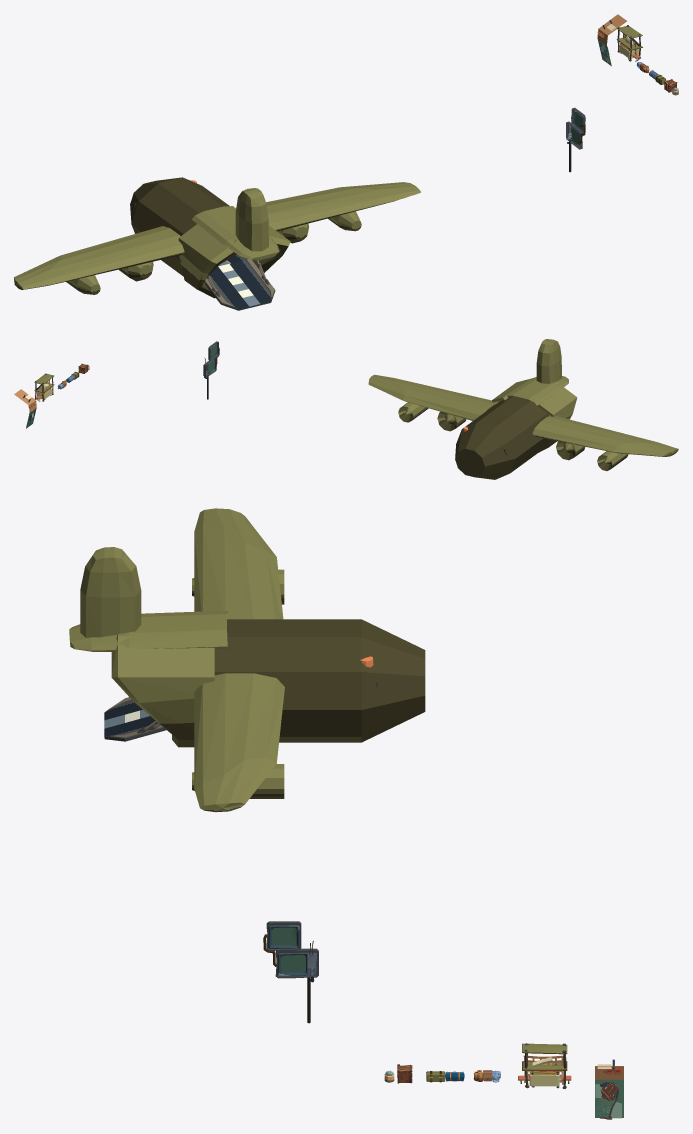
File: Teles.FBX
3 renders of one model, top to bottom at view 1: azimuth 30°, elevation 25°; view 2: azimuth 150°, elevation 25°; view 3: azimuth 270°, elevation 25°, orthographic. The views are drawn at different scales.
Parts seen in each view (by area): view 1: aviones, Object001, Estanteria, Laterales01; view 2: aviones, Object001, Estanteria, Laterales01; view 3: aviones, Object001, Estanteria.
Boxes of the visible parts, x1,y1,x2,y2 form: aviones: [14, 177, 420, 310]; Object001: [566, 107, 585, 172]; Estanteria: [616, 25, 642, 61]; Laterales01: [597, 16, 625, 63]; aviones: [368, 339, 678, 479]; Object001: [203, 341, 219, 399]; Estanteria: [34, 373, 54, 401]; Laterales01: [16, 389, 36, 428]; aviones: [69, 508, 425, 812]; Object001: [263, 921, 318, 1023]; Estanteria: [522, 1043, 567, 1088].
Size of the model in its own units: 13365 by 5743 by 2119.
